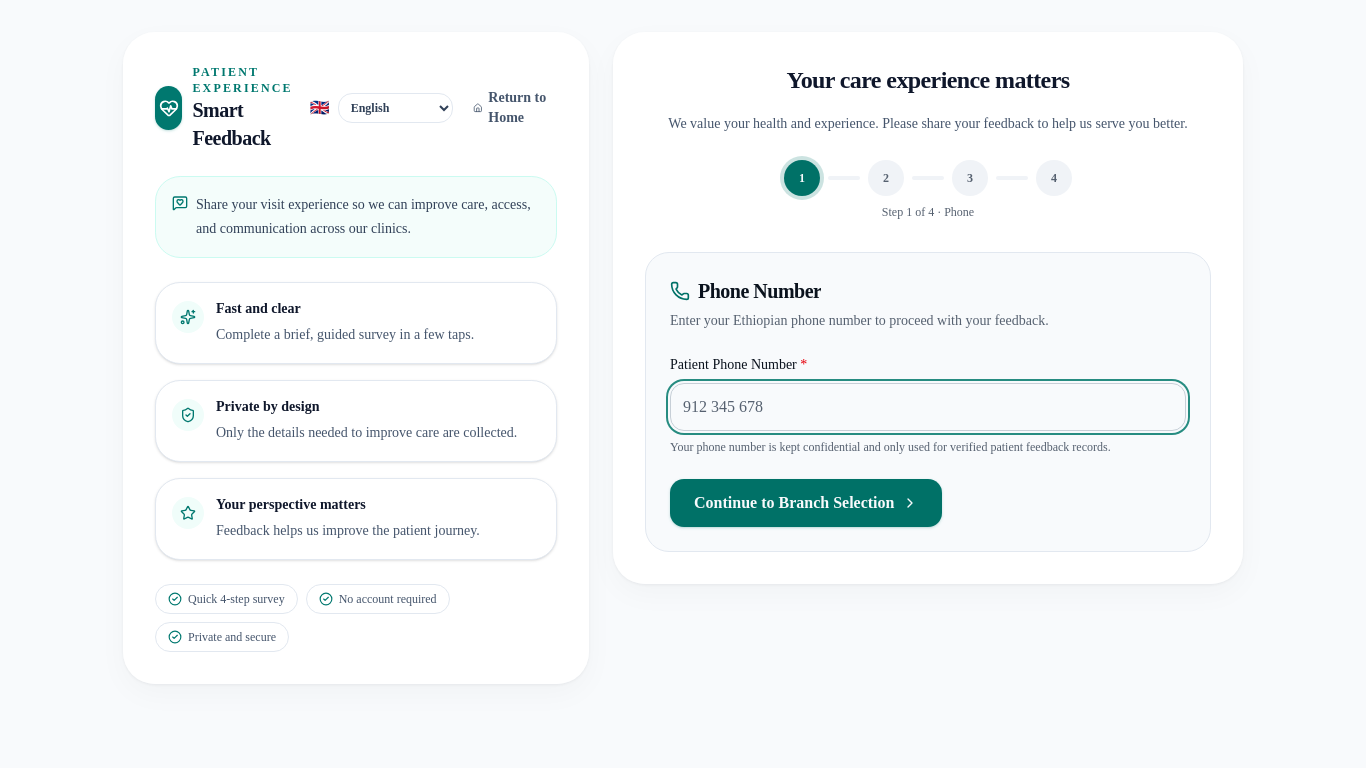
Test: PatientFeedbackForm — loading, error and empty states › shows a loading state while branches are being fetched
In the field labelled "Patient Phone Number *": x=928, y=407 [670, 383, 1186, 431], type "0912345678"
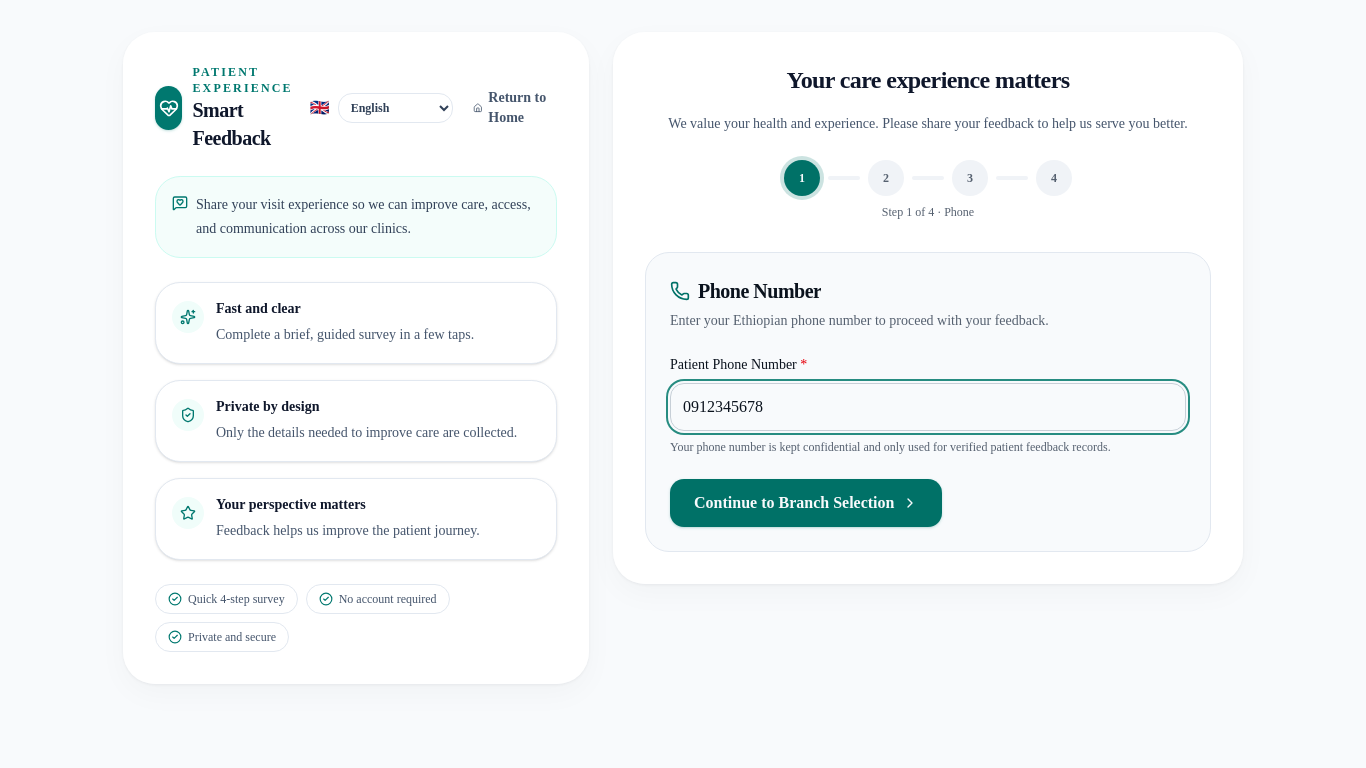
Click the button "Continue to Branch Selection": x=806, y=503 [670, 479, 942, 527]
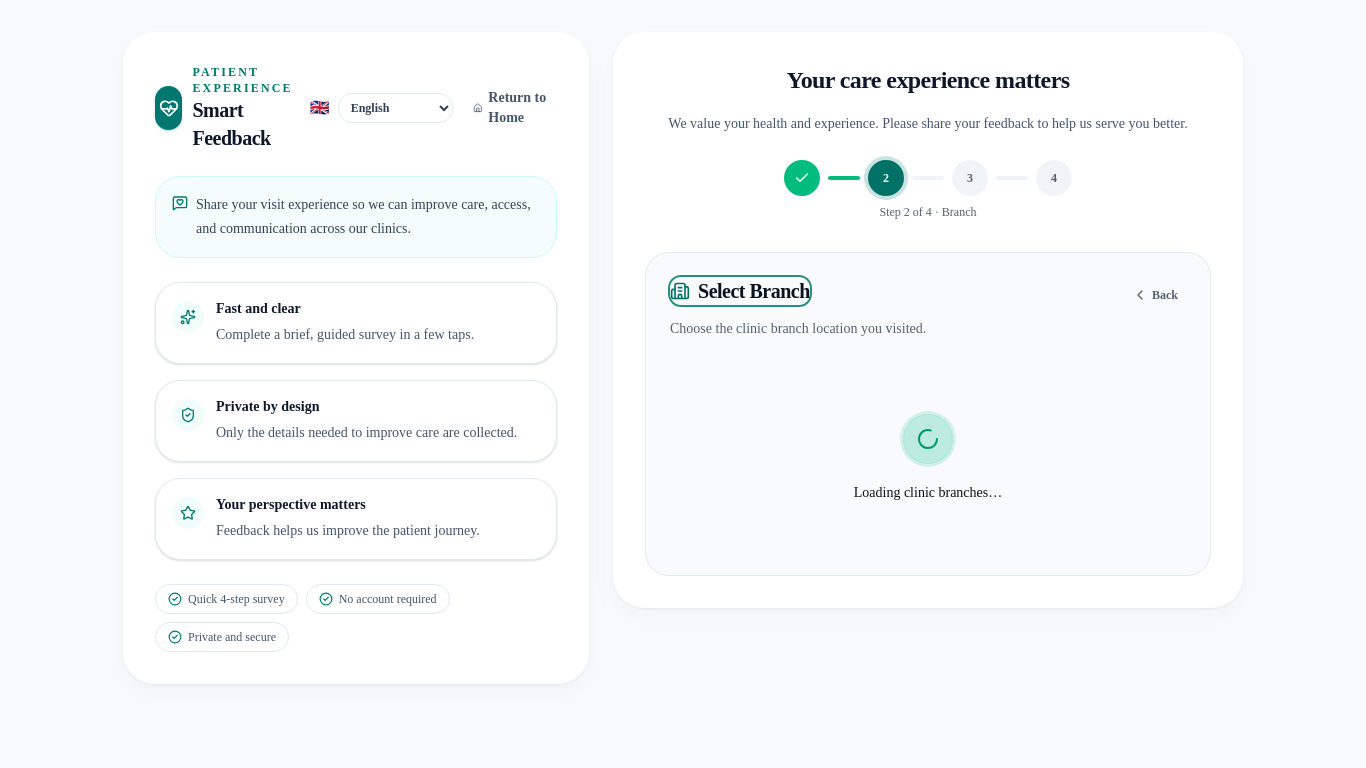
Now the heading "Select Branch" is shown, box [670, 277, 810, 305]
Now the message "Loading clinic branches…" is shown, box [854, 411, 1002, 500]
